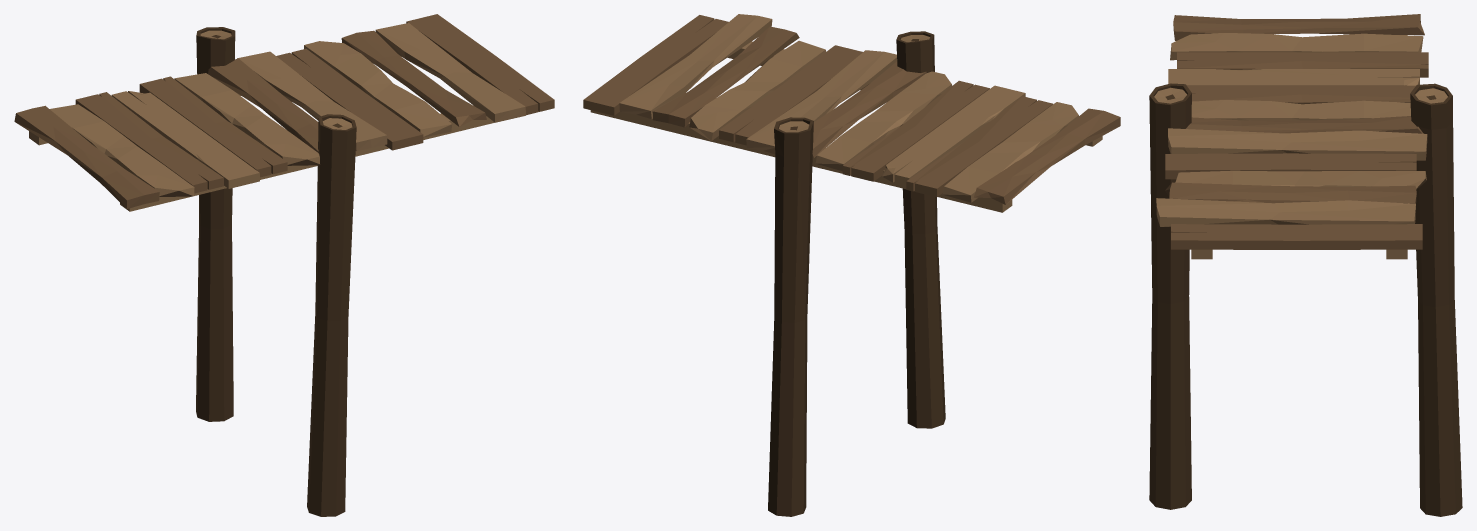
The model's file is Bridge_02.fbx.
3 renders of one model, left to right at view 1: azimuth 30°, elevation 25°; view 2: azimuth 150°, elevation 25°; view 3: azimuth 270°, elevation 25°, orthographic. The views are drawn at different scales.
Visible parts, largest first — view 1: Bridge_02; view 2: Bridge_02; view 3: Bridge_02.
Part boxes in pixels (<box>): Bridge_02: <box>14,14,554,516</box>; Bridge_02: <box>583,14,1120,516</box>; Bridge_02: <box>1149,14,1462,516</box>.
Bounding box in the file's own units: 5.71 × 4.96 × 3.38.
